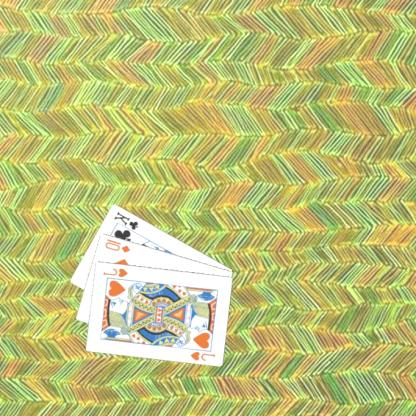10D: (104, 235, 133, 254)
JH: (189, 348, 218, 362), (102, 265, 130, 278)
KC: (113, 208, 141, 236)
